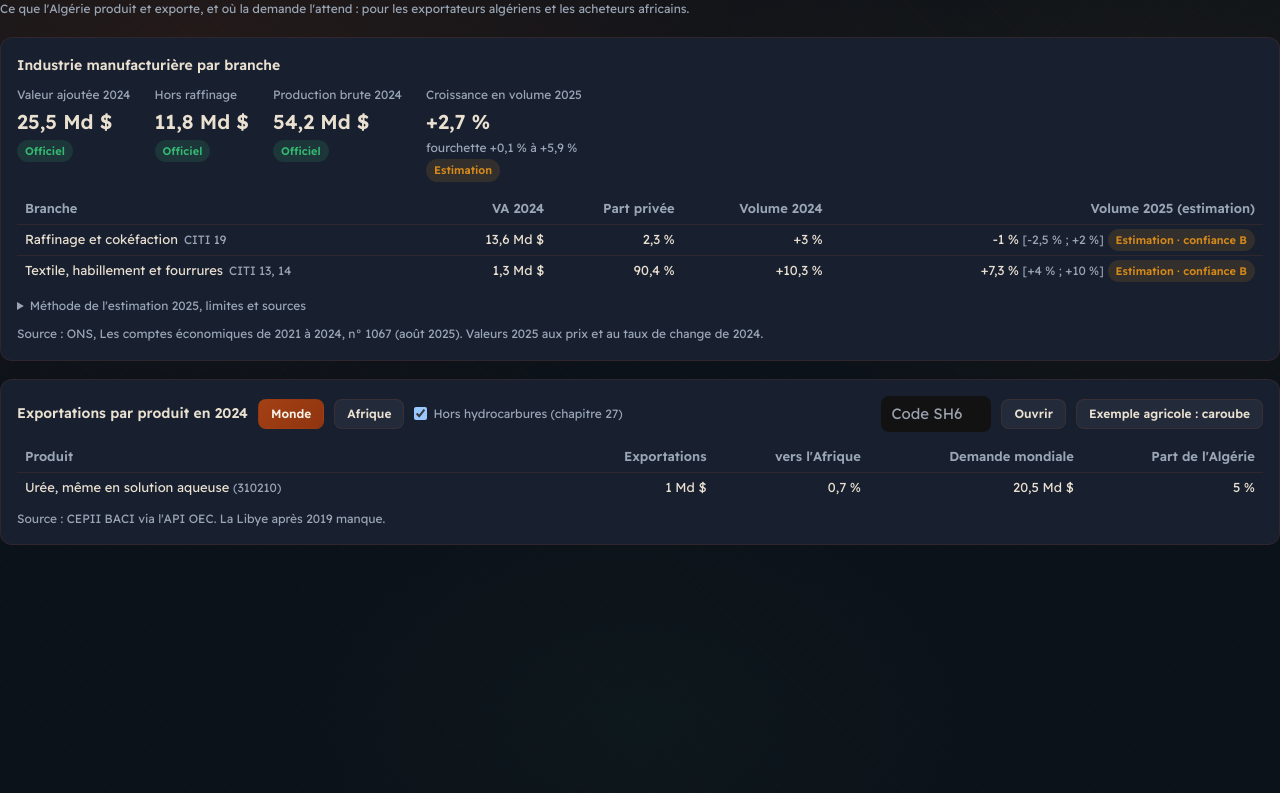
Test: NationalIndustryView › montre la fiche filière avec sa fiabilité, ses entreprises et les écarts entre sources
Expected: the element with test id "dza-exportations" is shown, [0,378,1279,545]
Step 1. Click the button with test id "raccourci-caroube" → click(1170, 414), box [1076,399,1263,429]
(page scrolled)
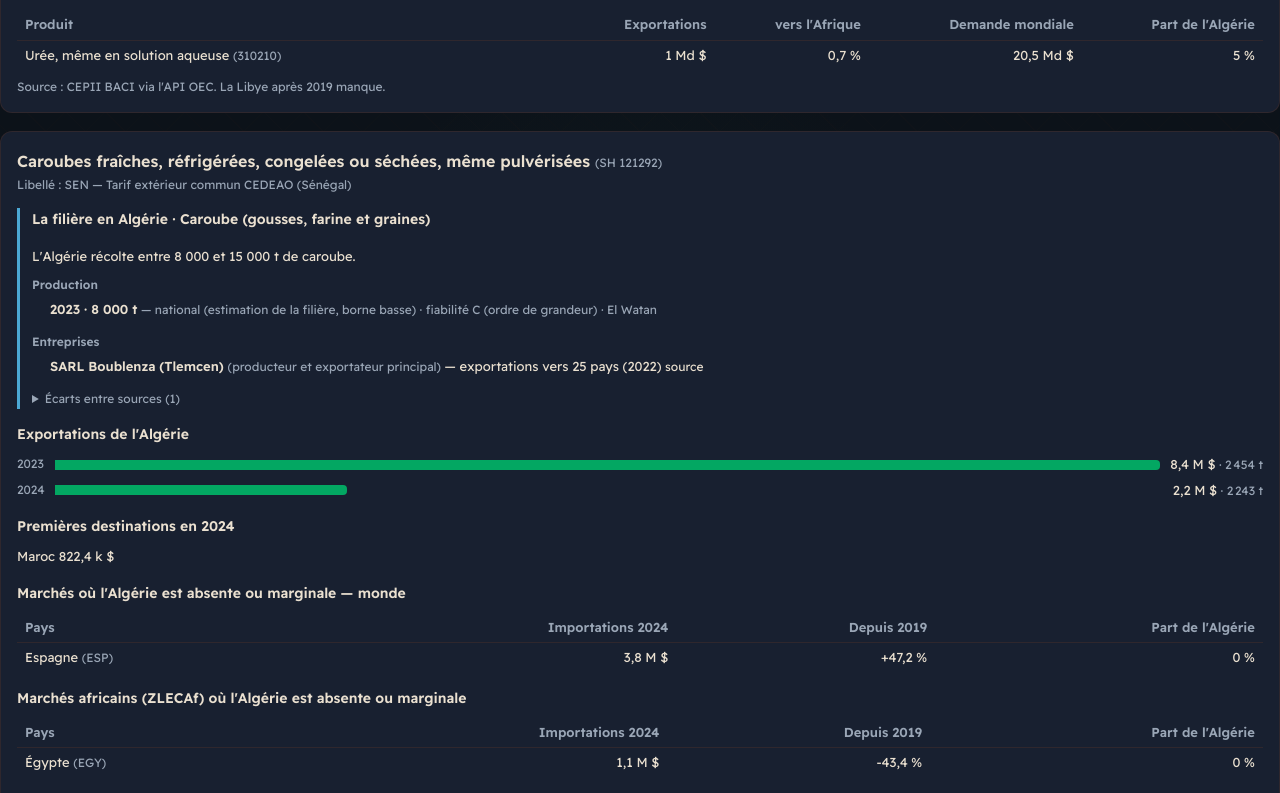
Expected: the element with test id "fiche-filiere" shows "La filière en Algérie", [32,210,168,228]
Expected: the element with test id "filiere-production" shows "fiabilité C (ordre de grandeur)", [32,277,657,317]
Expected: the element with test id "fiche-filiere" shows "SARL Boublenza", [50,358,224,374]
